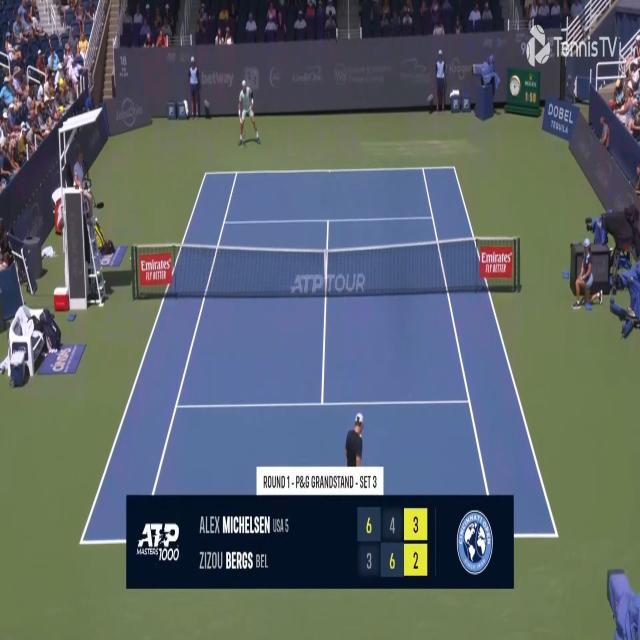tennis-player: (339, 412, 366, 491), (237, 80, 260, 148)
